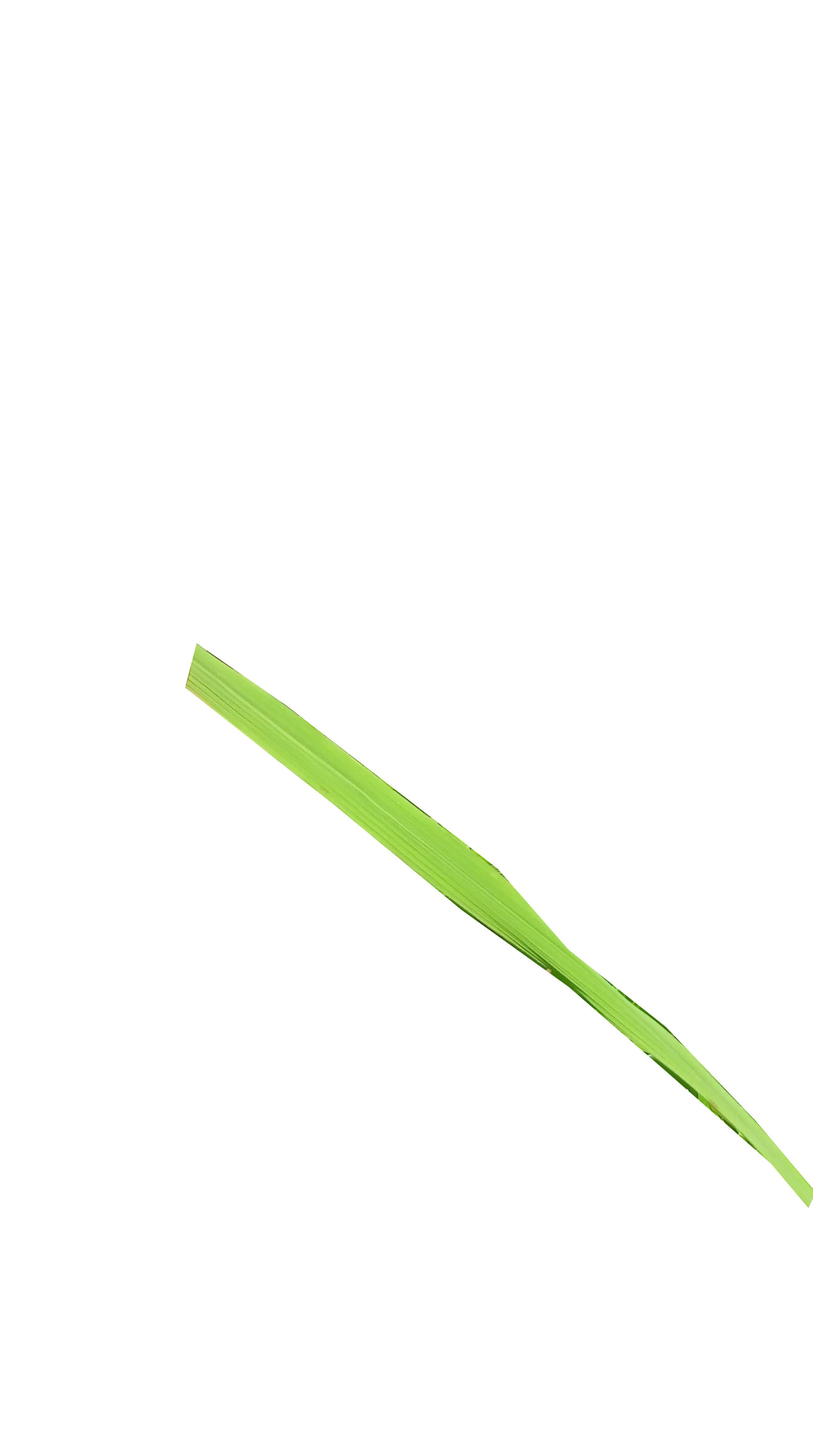Tungro: (183, 645, 813, 1213)
